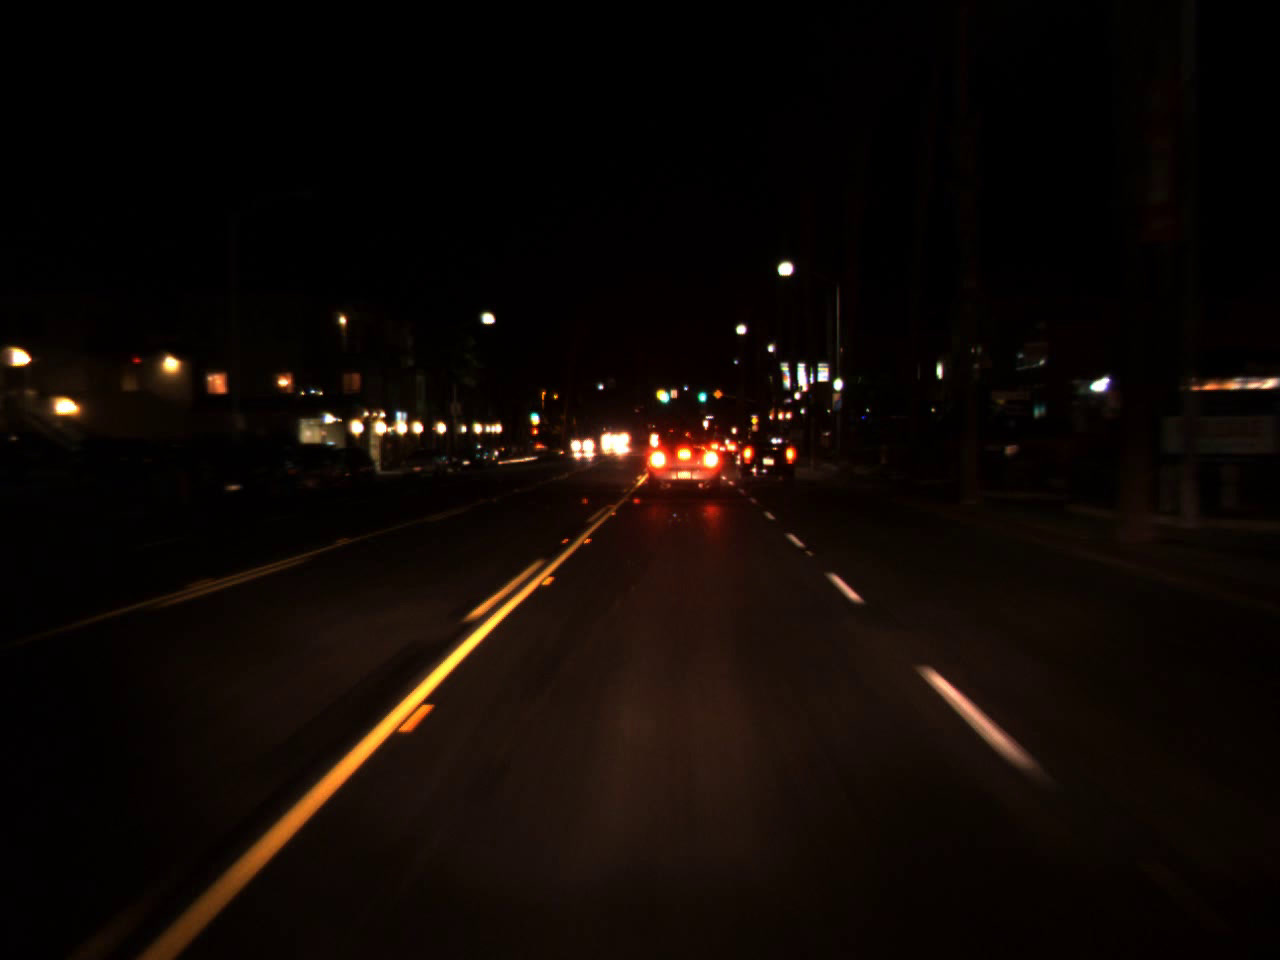go: (657, 382, 671, 403), (696, 379, 706, 406)
